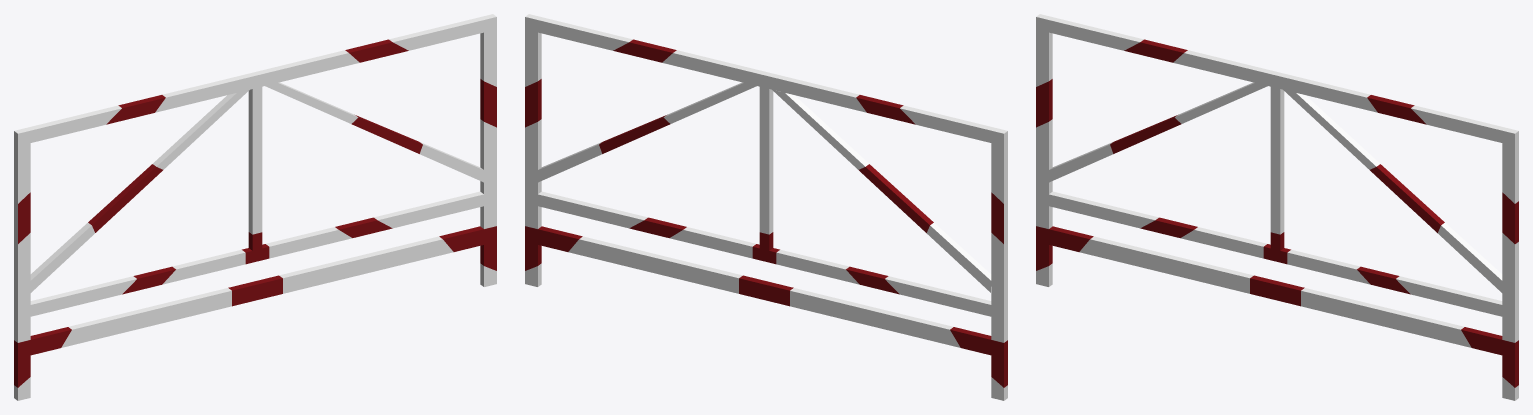
The model's file is valla de peligro.fbx.
The picture shows the model from 3 angles, left to right: view 1: azimuth 30°, elevation 25°; view 2: azimuth 150°, elevation 25°; view 3: azimuth 330°, elevation 25°; orthographic projection.
Parts seen in each view (by area): view 1: Cube; view 2: Cube; view 3: Cube.
Boxes of the visible parts, x1,y1,x2,y2 form: Cube: [14, 14, 496, 400]; Cube: [525, 14, 1007, 400]; Cube: [1036, 14, 1518, 400].
Bounding box in the file's own units: 198 × 106 × 2.85.
1 material, 1 textured.
